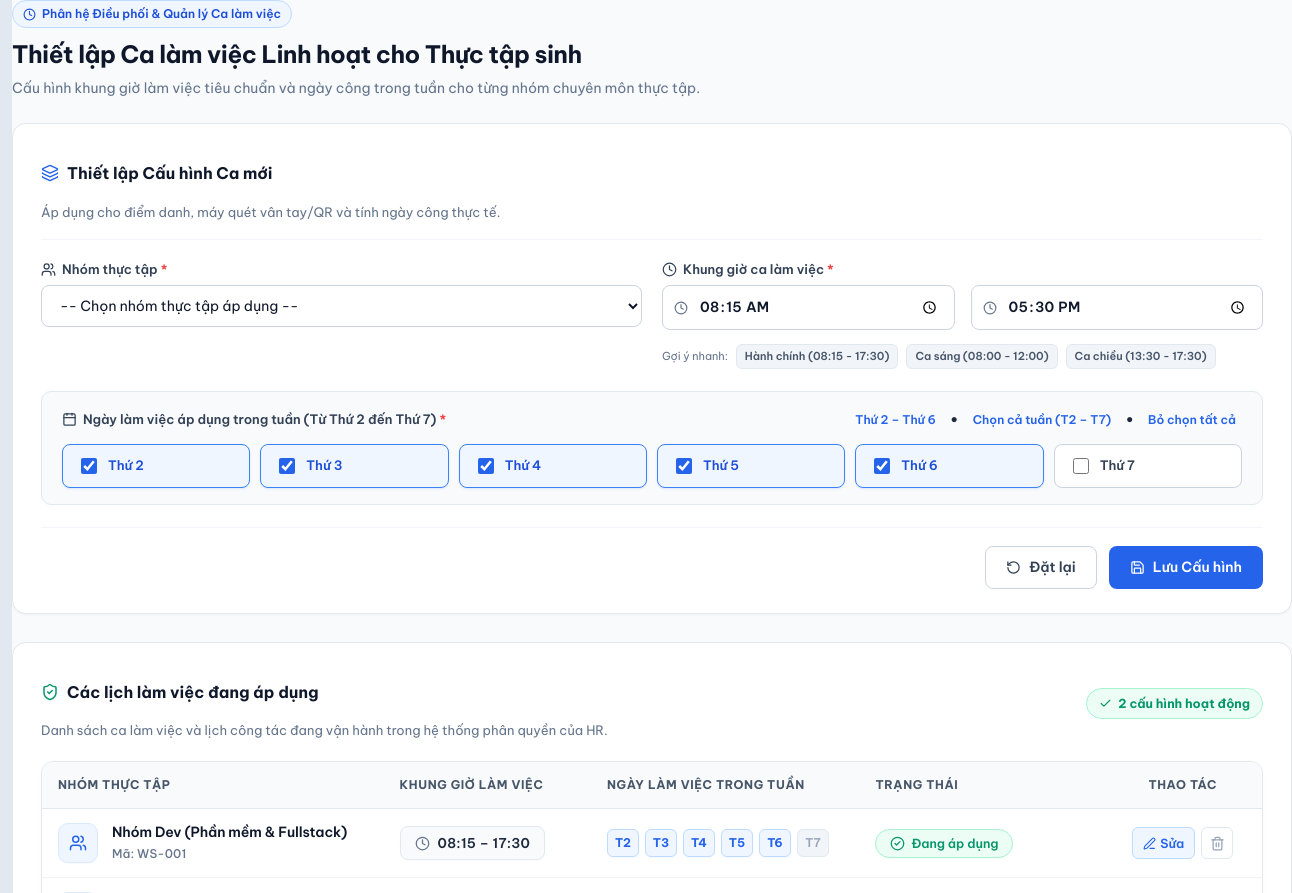
Test case: WorkScheduleSettings Component Test Suite › 5. Chức năng Chỉnh sửa Lịch làm việc (Nút "Sửa") › khi bấm "Sửa", đổ dữ liệu dòng vào form và chuyển sang chế độ Chỉnh sửa
Expected: the row with test id "schedule-row-WS-001" is shown, [42, 809, 1262, 878]
Note: Bấm nút "Sửa" ở dòng WS-001
Click the button with test id "btn-edit-WS-001": (1164, 843) [1132, 827, 1195, 860]
(page scrolled)
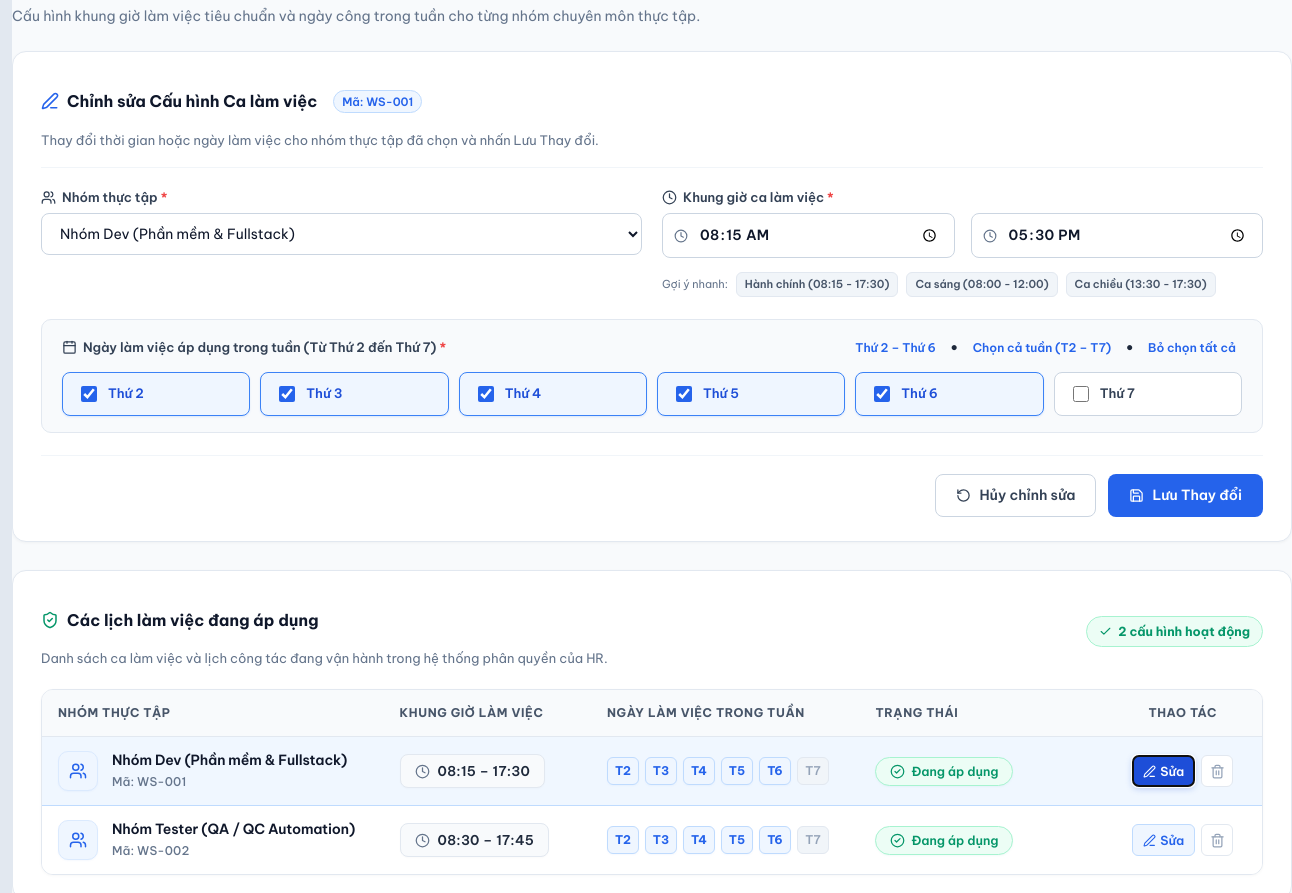
Now the text "Chỉnh sửa Cấu hình Ca làm việc" is shown, box [67, 89, 317, 113]
Now the text with test id "ws-editing-tag" reads "Mã: WS-001", box [333, 90, 422, 113]
Now the dropdown named "Chọn nhóm thực tập" shows "Nhóm Dev (Phần mềm & Fullstack)", box [41, 213, 642, 255]
